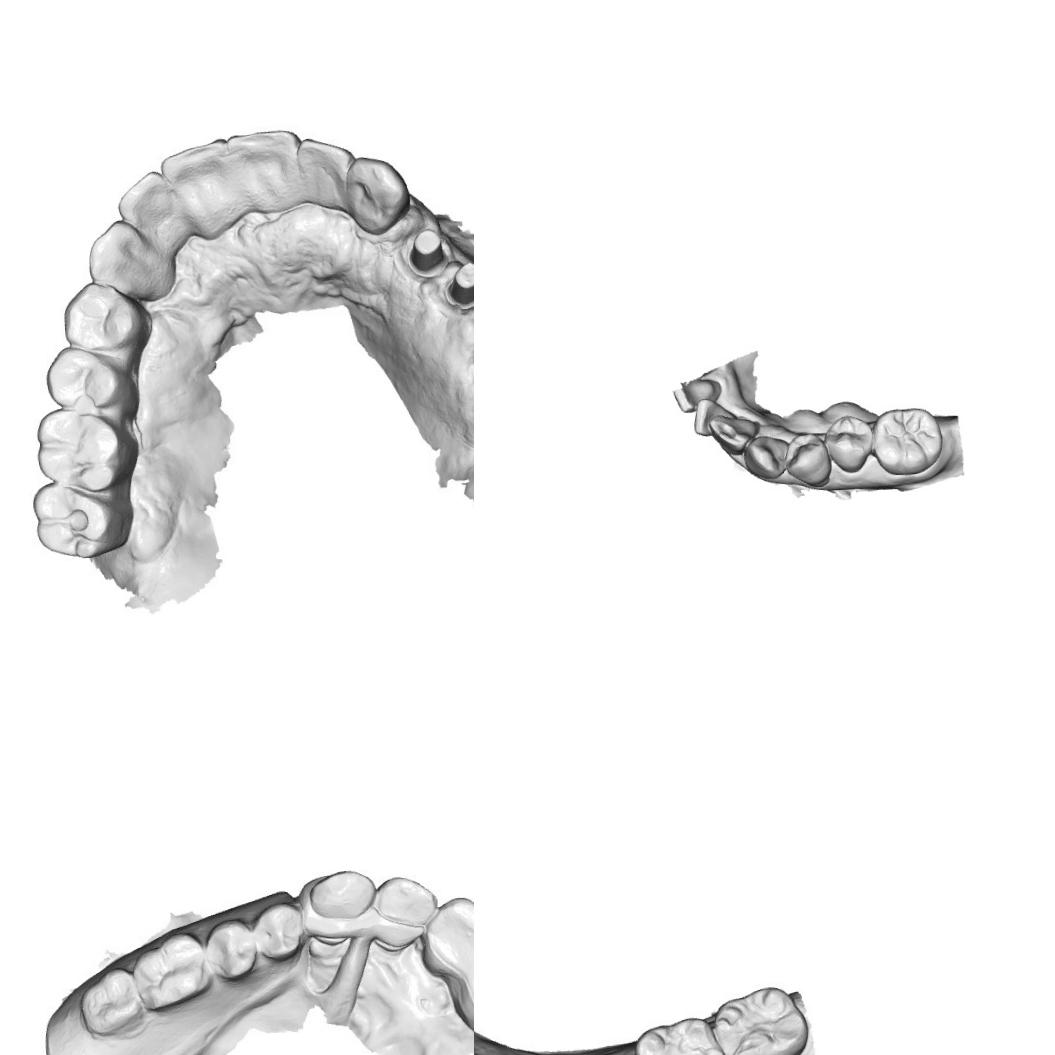abutment: (398, 223, 459, 286), (441, 261, 474, 316)
canine: (86, 222, 170, 302), (303, 862, 374, 926), (345, 159, 408, 231), (741, 432, 791, 483)
incisor: (164, 139, 240, 234), (231, 127, 306, 215), (124, 172, 189, 250), (296, 134, 354, 214), (376, 868, 433, 936), (430, 893, 474, 966), (706, 411, 760, 457), (671, 375, 724, 414), (690, 395, 740, 436)
molar: (32, 406, 134, 496), (30, 472, 121, 562), (708, 983, 805, 1055), (132, 927, 212, 1004), (869, 404, 948, 477), (82, 969, 143, 1039), (630, 1010, 724, 1055)
premolar: (43, 341, 128, 414), (58, 281, 140, 351), (252, 900, 310, 966), (820, 411, 875, 475), (207, 912, 256, 981), (781, 430, 831, 487)
